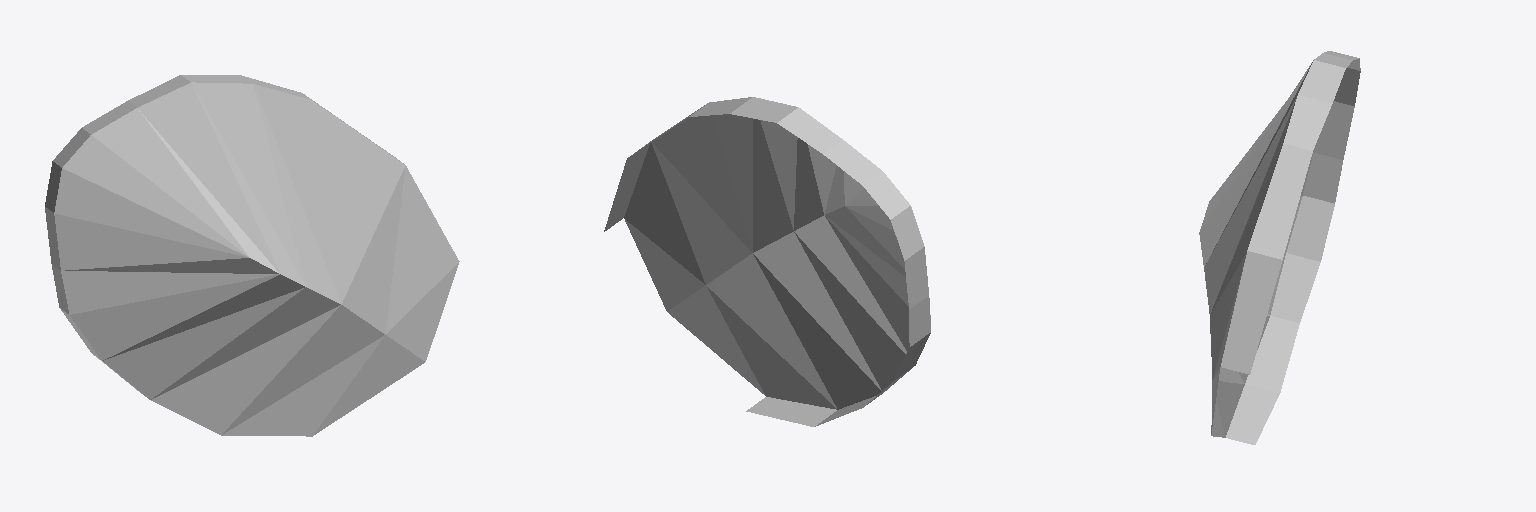
Rendered from arbre7.obj.
The picture shows the model from 3 angles: view 1: azimuth 30°, elevation 25°; view 2: azimuth 150°, elevation 25°; view 3: azimuth 270°, elevation 25°; orthographic projection.
Size of the model in its own units: 0.4145 by 0.382 by 0.1618.